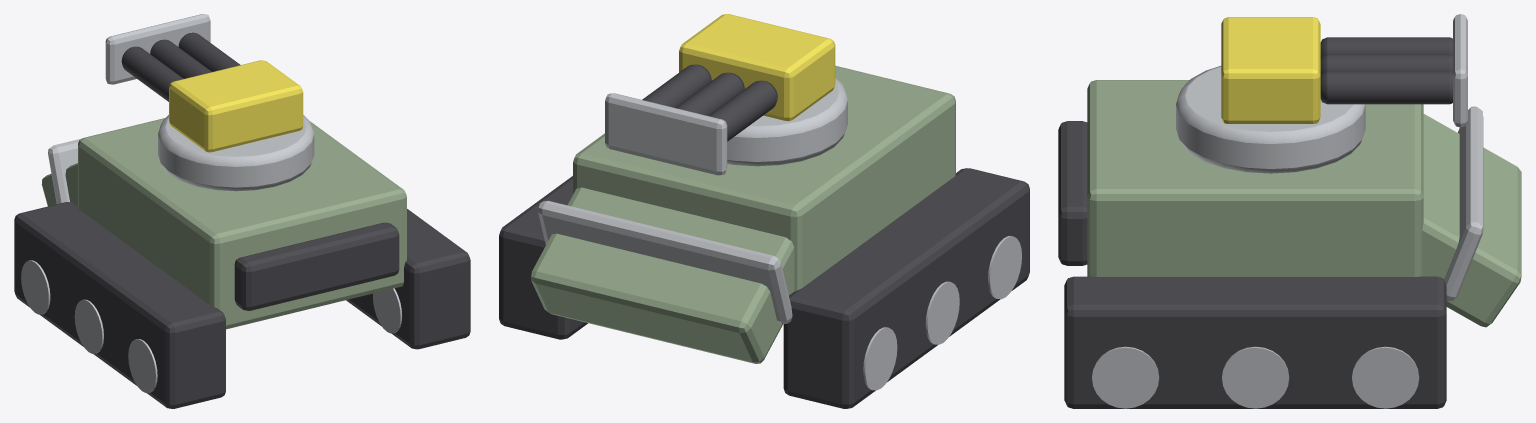
The model's file is robot_large_shotgun_tank.glb.
3 renders of one model, left to right at view 1: azimuth 30°, elevation 25°; view 2: azimuth 150°, elevation 25°; view 3: azimuth 270°, elevation 25°, orthographic. The views are drawn at different scales.
Parts seen in each view (by area): view 1: robot_large_shotgun_tank, robot_large_shotgun_tank_gun, robot_large_shotgun_tank_wheel2, robot_large_shotgun_tank_wheel0, robot_large_shotgun_tank_wheel1, robot_large_shotgun_tank_wheel3; view 2: robot_large_shotgun_tank, robot_large_shotgun_tank_gun, robot_large_shotgun_tank_wheel2, robot_large_shotgun_tank_wheel1, robot_large_shotgun_tank_wheel0; view 3: robot_large_shotgun_tank, robot_large_shotgun_tank_gun, robot_large_shotgun_tank_wheel3, robot_large_shotgun_tank_wheel4, robot_large_shotgun_tank_wheel5.
Part boxes in pixels (box(x1,y1,x2,y2)): robot_large_shotgun_tank: box(14, 115, 470, 408); robot_large_shotgun_tank_gun: box(105, 14, 303, 152); robot_large_shotgun_tank_wheel2: box(21, 260, 50, 314); robot_large_shotgun_tank_wheel0: box(128, 339, 157, 392); robot_large_shotgun_tank_wheel1: box(74, 299, 103, 353); robot_large_shotgun_tank_wheel3: box(373, 288, 402, 333); robot_large_shotgun_tank: box(499, 65, 1029, 408); robot_large_shotgun_tank_gun: box(605, 14, 835, 175); robot_large_shotgun_tank_wheel2: box(863, 327, 897, 390); robot_large_shotgun_tank_wheel1: box(925, 281, 959, 344); robot_large_shotgun_tank_wheel0: box(988, 236, 1021, 299); robot_large_shotgun_tank: box(1058, 66, 1521, 408); robot_large_shotgun_tank_gun: box(1221, 14, 1467, 127); robot_large_shotgun_tank_wheel3: box(1092, 346, 1159, 408); robot_large_shotgun_tank_wheel4: box(1222, 346, 1289, 408); robot_large_shotgun_tank_wheel5: box(1352, 346, 1419, 408).
Size of what is drawn, in the model's own units: 6.2 by 4.46 by 6.67.
